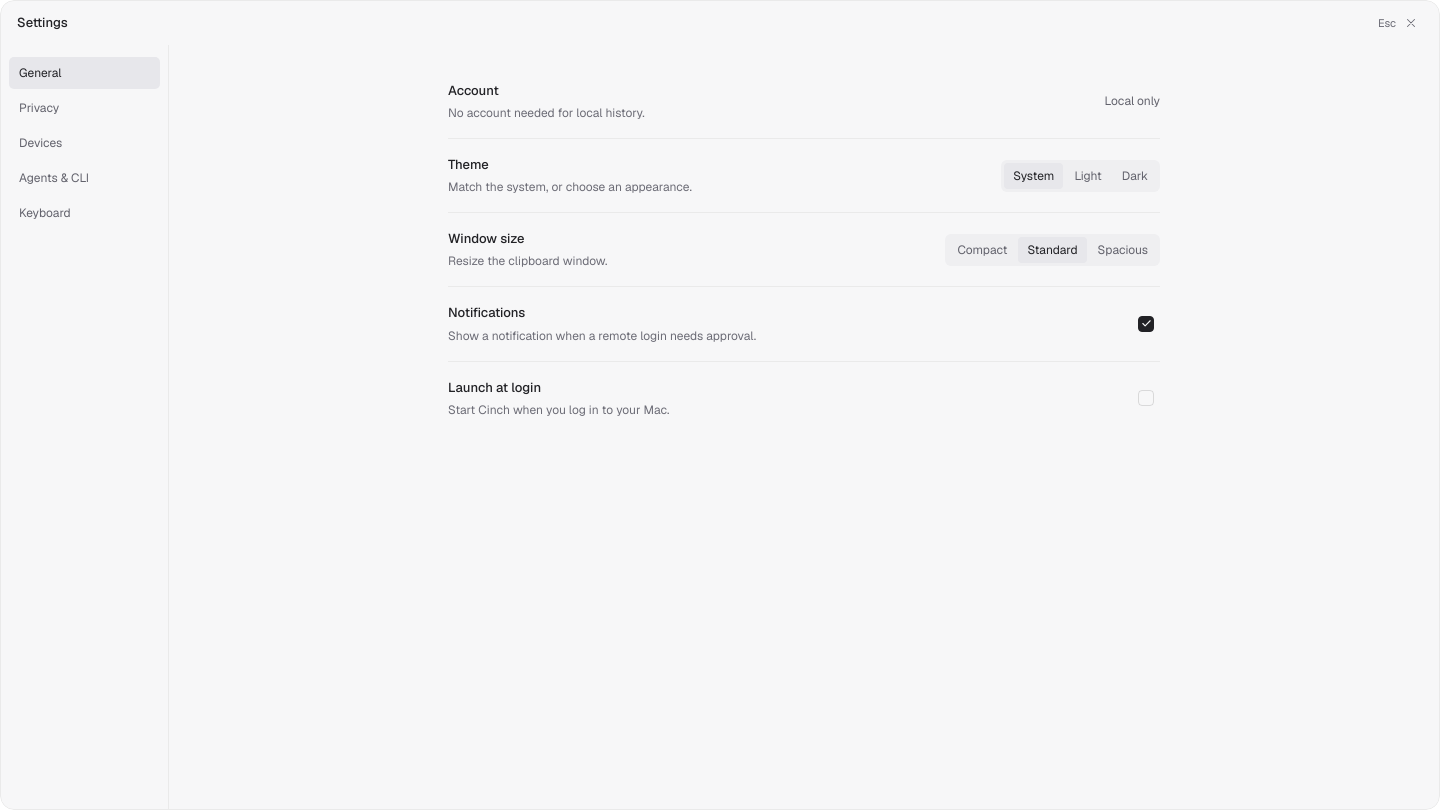
Test: SettingsPane › Global shortcut field › shows error for key press without modifier
The width and height of the screenshot is (1440, 810).
Click the button "Keyboard": [84, 213] box [9,197,160,229]
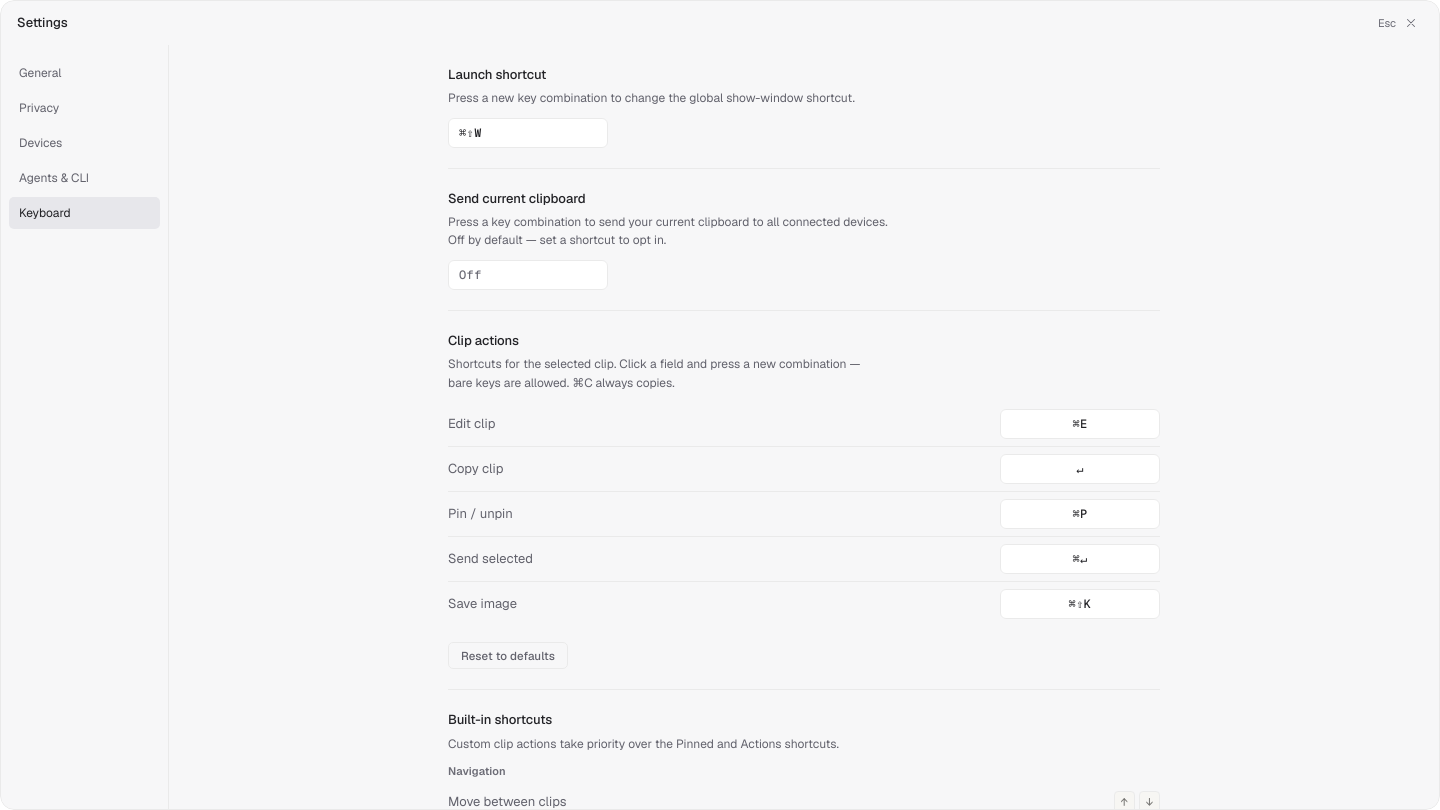
Press v in the field named "Global launch shortcut", box [448,118,608,148]
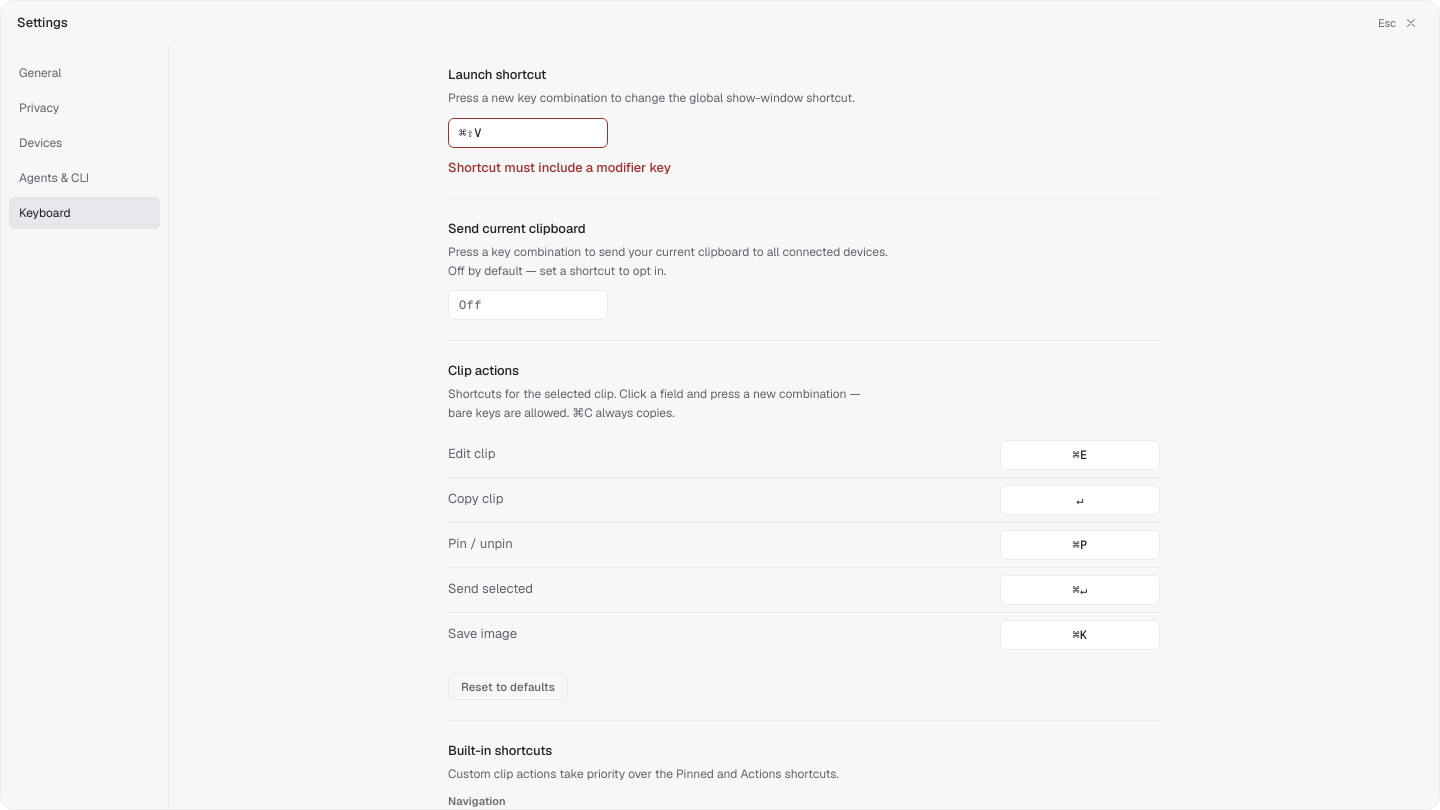
Result: the text "Shortcut must include a modifier key" is shown at [448,159,671,176]
